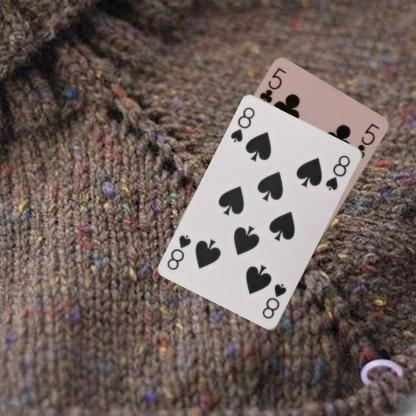5c: (257, 65, 288, 105)
8s: (228, 104, 257, 144), (260, 280, 288, 321)
